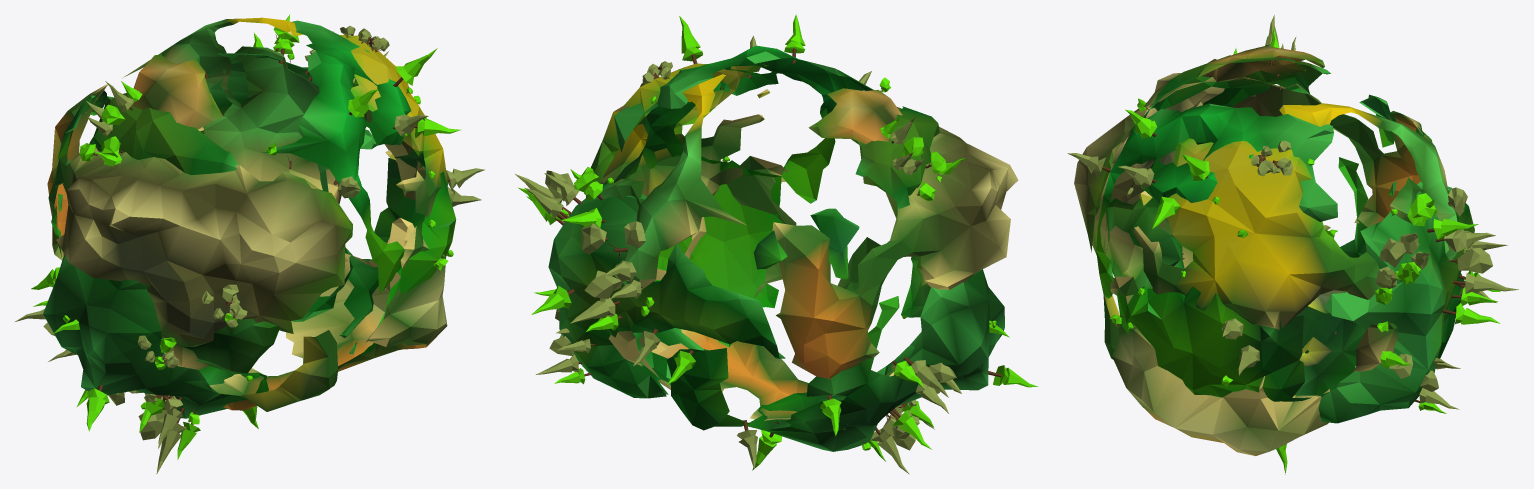
File: Planet_000.fbx
3 renders of one model, left to right at view 1: azimuth 30°, elevation 25°; view 2: azimuth 150°, elevation 25°; view 3: azimuth 270°, elevation 25°, orthographic. The views are drawn at different scales.
Visible parts, largest first — view 1: Planet.000; view 2: Planet.000; view 3: Planet.000.
Boxes of the visible parts, x1=… form: Planet.000: x1=15, y1=14, x2=485, y2=473; Planet.000: x1=515, y1=14, x2=1038, y2=474; Planet.000: x1=1067, y1=15, x2=1518, y2=474.
Size of the model in its own units: 93176 by 80742 by 86220.
